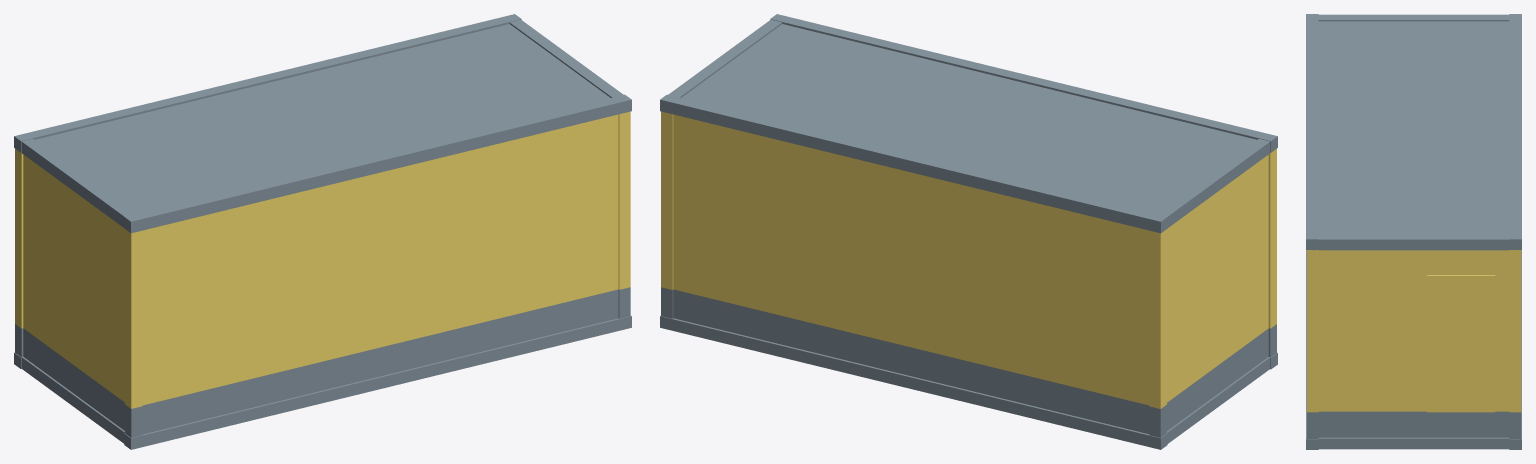
The model's file is Service_container_140_v.fbx.
The picture shows the model from 3 angles, left to right: view 1: azimuth 30°, elevation 25°; view 2: azimuth 150°, elevation 25°; view 3: azimuth 270°, elevation 25°; orthographic projection. The views are drawn at different scales.
Parts seen in each view (by area): view 1: Container; view 2: Container; view 3: Container.
Boxes of the visible parts, bbox=[...] form: Container: bbox=[14, 14, 631, 449]; Container: bbox=[660, 14, 1277, 449]; Container: bbox=[1306, 14, 1521, 449].
Size of the model in its own units: 606 by 264 by 245.
